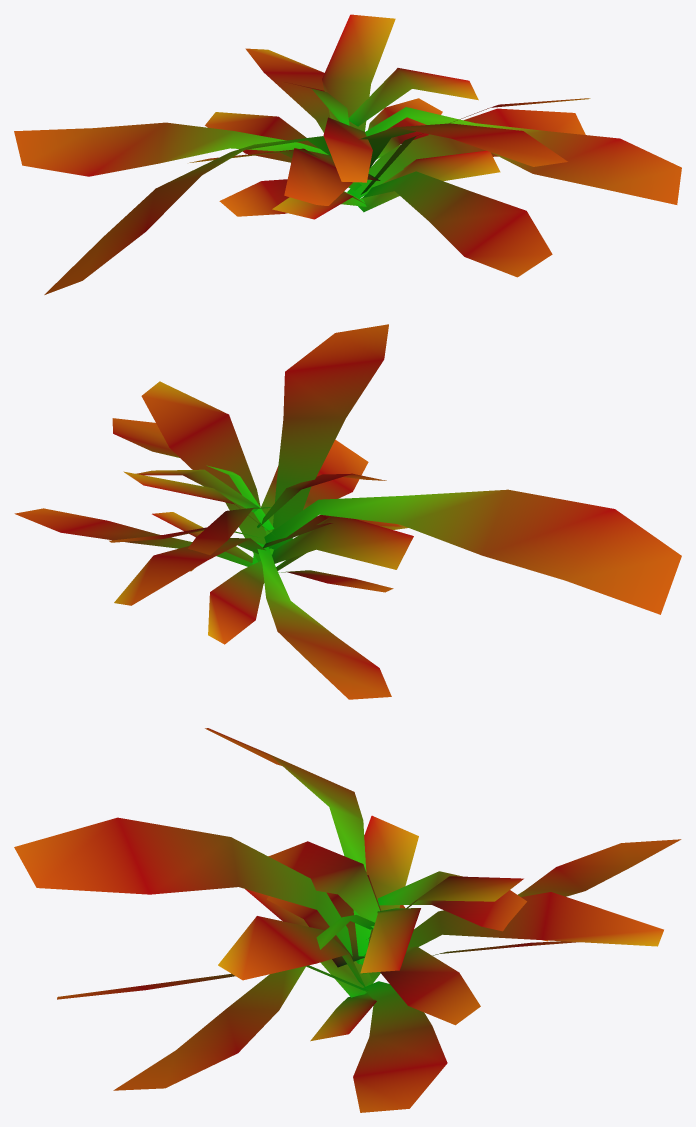
The model's file is Cape Weed_LOD1_Var6_tjmhfcyia.fbx.
The picture shows the model from 3 angles, top to bottom: view 1: azimuth 30°, elevation 25°; view 2: azimuth 150°, elevation 25°; view 3: azimuth 270°, elevation 25°; orthographic projection. The views are drawn at different scales.
Visible parts, largest first — view 1: _c7c8_Var6_LOD1; view 2: _c7c8_Var6_LOD1; view 3: _c7c8_Var6_LOD1.
Part boxes in pixels (x1,y1,x2,y2): _c7c8_Var6_LOD1: [14, 14, 681, 294]; _c7c8_Var6_LOD1: [14, 324, 681, 699]; _c7c8_Var6_LOD1: [14, 728, 681, 1112].
Size of the model in its own units: 17.57 by 4.15 by 14.38.
